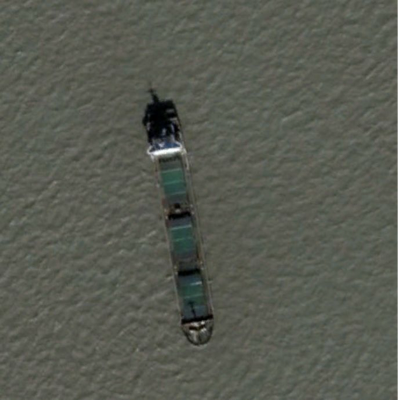boat: (143, 100, 216, 348)
